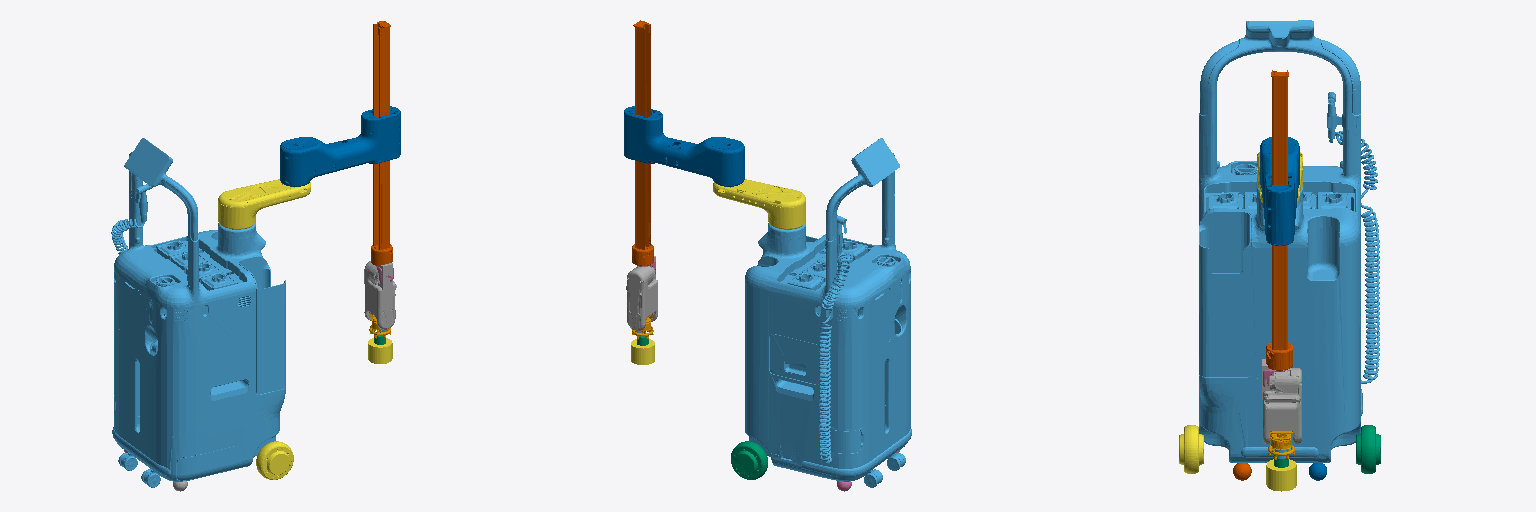
robot.urdf — t1:
<?xml version="1.0" ?>
<!-- =================================================================================== -->
<!-- |    This document was autogenerated by xacro from config/urdf/robot.urdf.xacro   | -->
<!-- |    EDITING THIS FILE BY HAND IS NOT RECOMMENDED                                 | -->
<!-- =================================================================================== -->
<robot name="t1">
  <!-- base_link: REP-103, +X forward, on the ground under the drive-axle midpoint.
       chassis_link: v6_wbc CAD, already +X forward. -->
  <!-- Kinematic origins and inertials copy v6_wbc.urdf; CAD names both the joint
       and the child link arm_jointN / arm_mount_joint / tool_joint. Links are
       renamed to arm_linkN / arm_base_link / tool_link. Limits from yaml.
       J4 CAD rpy yaw is 1.5807; use pi/2 (the 0.57 deg leftover is assembly dust). -->
  <!-- tool_link -> ft_sensor (measurement frame) -> brush_mount -> brush_tip.
       brush_tip +Z points out of the brush face. Masses and sizes from end_effector.yaml. -->
  <!-- Two RGBD frames. Optical: Z forward, X right, Y down (ROS camera).
       chassis pan is a UI/hardware joint only; keep it out of ros2_control / WBC. -->
  <!-- Interface contract shared by sim, hal and the controller. Change all three together.
       Arm joints use Damiao MIT mode: tau = kp*(q_des-q) + kd*(dq_des-dq) + tau_ff. -->
  <link name="base_link"/>
  <joint name="chassis_joint" type="fixed">
    <parent link="base_link"/>
    <child link="chassis_link"/>
    <origin rpy="0 0 0" xyz="-0.16 0 0.041800000000000004"/>
  </joint>
  <link name="chassis_link">
    <inertial>
      <origin rpy="0 0 0" xyz="0.0064536 0.005602 0.4715"/>
      <mass value="50.0"/>
      <inertia ixx="0.3906" ixy="-0.011384" ixz="0.0049803" iyy="0.38788" iyz="0.0046922" izz="0.21531"/>
    </inertial>
    <visual>
      <geometry>
        <mesh filename="package://wbc/meshes/raw/chassis_link.STL"/>
      </geometry>
    </visual>
    <collision>
      <origin rpy="0 0 0" xyz="0 0 0.25"/>
      <geometry>
        <box size="0.55 0.42 0.50"/>
      </geometry>
    </collision>
  </link>
  <!-- CAD joint axis is child +Z; rpy maps that to chassis -Y, so 0 0 -1 makes
         positive rotation drive +X (forward). -->
  <joint name="wheel_left_joint" type="continuous">
    <parent link="chassis_link"/>
    <child link="wheel_left_link"/>
    <origin rpy="1.5707963267948966 -1.5707963267948966 0" xyz="0.16 0.20275 0.0237"/>
    <axis xyz="0 0 -1"/>
  </joint>
  <link name="wheel_left_link">
    <inertial>
      <origin rpy="0 0 0" xyz="-2.5956E-08 1.4735E-07 -0.031758"/>
      <mass value="5"/>
      <inertia ixx="0.00047265" ixy="1.2993E-09" ixz="3.411E-11" iyy="0.00047265" iyz="6.0582E-12" izz="0.00085288"/>
    </inertial>
    <visual>
      <geometry>
        <mesh filename="package://wbc/meshes/raw/wheel_left_link.STL"/>
      </geometry>
    </visual>
    <collision>
      <geometry>
        <cylinder length="0.05" radius="0.0655"/>
      </geometry>
    </collision>
  </link>
  <joint name="wheel_right_joint" type="continuous">
    <parent link="chassis_link"/>
    <child link="wheel_right_link"/>
    <origin rpy="1.5707963267948966 -1.5707963267948966 0" xyz="0.16 -0.20275 0.0237"/>
    <axis xyz="0 0 -1"/>
  </joint>
  <link name="wheel_right_link">
    <inertial>
      <origin rpy="0 0 0" xyz="2.4542E-08 1.2337E-08 0.032242"/>
      <mass value="5"/>
      <inertia ixx="0.00047265" ixy="-2.8495E-09" ixz="-2.2362E-11" iyy="0.00047265" iyz="-2.6387E-11" izz="0.00085288"/>
    </inertial>
    <visual>
      <geometry>
        <mesh filename="package://wbc/meshes/raw/wheel_right_link.STL"/>
      </geometry>
    </visual>
    <collision>
      <geometry>
        <cylinder length="0.05" radius="0.0655"/>
      </geometry>
    </collision>
  </link>
  <joint name="caster_front_left_joint" type="fixed">
    <parent link="base_link"/>
    <child link="caster_front_left"/>
    <origin rpy="0 0 0" xyz="0.05 0.101 0.025"/>
  </joint>
  <link name="caster_front_left">
    <visual>
      <geometry>
        <sphere radius="0.025"/>
      </geometry>
    </visual>
    <collision>
      <geometry>
        <sphere radius="0.025"/>
      </geometry>
    </collision>
    <inertial>
      <mass value="0.16"/>
      <inertia ixx="4e-5" ixy="0" ixz="0" iyy="4e-5" iyz="0" izz="4e-5"/>
    </inertial>
  </link>
  <joint name="caster_front_right_joint" type="fixed">
    <parent link="base_link"/>
    <child link="caster_front_right"/>
    <origin rpy="0 0 0" xyz="0.05 -0.1 0.025"/>
  </joint>
  <link name="caster_front_right">
    <visual>
      <geometry>
        <sphere radius="0.025"/>
      </geometry>
    </visual>
    <collision>
      <geometry>
        <sphere radius="0.025"/>
      </geometry>
    </collision>
    <inertial>
      <mass value="0.16"/>
      <inertia ixx="4e-5" ixy="0" ixz="0" iyy="4e-5" iyz="0" izz="4e-5"/>
    </inertial>
  </link>
  <joint name="caster_rear_left_joint" type="fixed">
    <parent link="base_link"/>
    <child link="caster_rear_left"/>
    <origin rpy="0 0 0" xyz="-0.315 0.16 0.025"/>
  </joint>
  <link name="caster_rear_left">
    <visual>
      <geometry>
        <sphere radius="0.025"/>
      </geometry>
    </visual>
    <collision>
      <geometry>
        <sphere radius="0.025"/>
      </geometry>
    </collision>
    <inertial>
      <mass value="0.16"/>
      <inertia ixx="4e-5" ixy="0" ixz="0" iyy="4e-5" iyz="0" izz="4e-5"/>
    </inertial>
  </link>
  <joint name="caster_rear_right_joint" type="fixed">
    <parent link="base_link"/>
    <child link="caster_rear_right"/>
    <origin rpy="0 0 0" xyz="-0.315 -0.16 0.025"/>
  </joint>
  <link name="caster_rear_right">
    <visual>
      <geometry>
        <sphere radius="0.025"/>
      </geometry>
    </visual>
    <collision>
      <geometry>
        <sphere radius="0.025"/>
      </geometry>
    </collision>
    <inertial>
      <mass value="0.16"/>
      <inertia ixx="4e-5" ixy="0" ixz="0" iyy="4e-5" iyz="0" izz="4e-5"/>
    </inertial>
  </link>
  <joint name="imu_joint" type="fixed">
    <parent link="base_link"/>
    <child link="imu_link"/>
    <origin rpy="0 0 0" xyz="0.0 0.0 0.2"/>
  </joint>
  <link name="imu_link"/>
  <joint name="laser_joint" type="fixed">
    <parent link="base_link"/>
    <child link="laser_link"/>
    <origin rpy="0 0 0" xyz="0.1 0.0 0.25"/>
  </joint>
  <link name="laser_link"/>
  <joint name="arm_mount_joint" type="fixed">
    <parent link="chassis_link"/>
    <child link="arm_base_link"/>
    <origin rpy="0 0 0" xyz="0.153 0 0.88765"/>
  </joint>
  <link name="arm_base_link">
    <inertial>
      <origin rpy="0 0 0" xyz="0 0 0"/>
      <mass value="0.5"/>
      <inertia ixx="1e-6" ixy="0" ixz="0" iyy="1e-6" iyz="0" izz="1e-6"/>
    </inertial>
    <visual>
      <geometry>
        <mesh filename="package://wbc/meshes/raw/arm_mount_joint.STL"/>
      </geometry>
    </visual>
    <collision>
      <geometry>
        <mesh filename="package://wbc/meshes/raw/arm_mount_joint.STL"/>
      </geometry>
    </collision>
  </link>
  <joint name="arm_joint1" type="revolute">
    <parent link="arm_base_link"/>
    <child link="arm_link1"/>
    <origin rpy="0 0 0" xyz="0 0 0"/>
    <axis xyz="0 0 1"/>
    <limit effort="35.0" lower="-3.14" upper="3.14" velocity="3.0"/>
  </joint>
  <link name="arm_link1">
    <inertial>
      <origin rpy="0 0 0" xyz="0.060036 0.0013498 -0.03342"/>
      <mass value="1.5"/>
      <inertia ixx="0.00055903" ixy="-0.0001017" ixz="-0.00019926" iyy="0.0044725" iyz="-3.3406E-06" izz="0.0046668"/>
    </inertial>
    <visual>
      <geometry>
        <mesh filename="package://wbc/meshes/raw/arm_joint1.STL"/>
      </geometry>
    </visual>
    <collision>
      <geometry>
        <mesh filename="package://wbc/meshes/raw/arm_joint1.STL"/>
      </geometry>
    </collision>
  </link>
  <joint name="arm_joint2" type="revolute">
    <parent link="arm_link1"/>
    <child link="arm_link2"/>
    <origin rpy="0 0 0" xyz="0.22 0 0.13296"/>
    <axis xyz="0 0 -1"/>
    <limit effort="35.0" lower="-3.14" upper="3.14" velocity="3.0"/>
  </joint>
  <link name="arm_link2">
    <inertial>
      <origin rpy="0 0 0" xyz="0.13648 0.0063874 -0.067802"/>
      <mass value="1.5"/>
      <inertia ixx="0.0016395" ixy="-5.7716E-05" ixz="-0.00094019" iyy="0.015626" iyz="3.5816E-06" izz="0.014853"/>
    </inertial>
    <visual>
      <geometry>
        <mesh filename="package://wbc/meshes/raw/arm_joint2.STL"/>
      </geometry>
    </visual>
    <collision>
      <geometry>
        <mesh filename="package://wbc/meshes/raw/arm_joint2.STL"/>
      </geometry>
    </collision>
  </link>
  <joint name="arm_joint3" type="prismatic">
    <parent link="arm_link2"/>
    <child link="arm_link3"/>
    <origin rpy="0 0 0" xyz="0.32549 -0.00010767 -0.5001"/>
    <axis xyz="0 0 1"/>
    <limit effort="200.0" lower="-0.34" upper="0.38" velocity="0.2"/>
  </joint>
  <link name="arm_link3">
    <inertial>
      <origin rpy="0 0 0" xyz="0.0021928 0.0049691 0.3388"/>
      <mass value="1"/>
      <inertia ixx="0.021701" ixy="-1.3756E-05" ixz="3.5708E-08" iyy="0.021662" iyz="-3.1676E-08" izz="0.0002373"/>
    </inertial>
    <visual>
      <geometry>
        <mesh filename="package://wbc/meshes/raw/arm_joint3.STL"/>
      </geometry>
    </visual>
    <collision>
      <geometry>
        <mesh filename="package://wbc/meshes/raw/arm_joint3.STL"/>
      </geometry>
    </collision>
  </link>
  <joint name="arm_joint4" type="revolute">
    <parent link="arm_link3"/>
    <child link="arm_link4"/>
    <origin rpy="0 0 1.5707963267948966" xyz="0 0 0"/>
    <axis xyz="0 0 1"/>
    <limit effort="12.0" lower="-3.14" upper="3.14" velocity="3.0"/>
  </joint>
  <link name="arm_link4">
    <inertial>
      <origin rpy="0 0 0" xyz="-0.02654 0.0071633 -0.022123"/>
      <mass value="0.5"/>
      <inertia ixx="1.4366E-05" ixy="-1.2671E-07" ixz="-3.6545E-06" iyy="1.2739E-05" iyz="2.8268E-07" izz="1.0192E-05"/>
    </inertial>
    <visual>
      <geometry>
        <mesh filename="package://wbc/meshes/raw/arm_joint4.STL"/>
      </geometry>
    </visual>
    <collision>
      <geometry>
        <mesh filename="package://wbc/meshes/raw/arm_joint4.STL"/>
      </geometry>
    </collision>
  </link>
  <joint name="arm_joint5" type="revolute">
    <parent link="arm_link4"/>
    <child link="arm_link5"/>
    <origin rpy="-1.5707963267948966 0 -1.5707963267948966" xyz="-0.031613 0.002352 -0.04255"/>
    <axis xyz="0 0 1"/>
    <limit effort="12.0" lower="-3.33" upper="0.33" velocity="3.0"/>
  </joint>
  <link name="arm_link5">
    <inertial>
      <origin rpy="0 0 0" xyz="-0.0020117 0.054321 0.043414"/>
      <mass value="1"/>
      <inertia ixx="0.00065389" ixy="-5.5292E-05" ixz="3.9225E-06" iyy="0.0002255" iyz="3.4951E-05" izz="0.00060496"/>
    </inertial>
    <visual>
      <geometry>
        <mesh filename="package://wbc/meshes/raw/arm_joint5.STL"/>
      </geometry>
    </visual>
    <collision>
      <geometry>
        <mesh filename="package://wbc/meshes/raw/arm_joint5.STL"/>
      </geometry>
    </collision>
  </link>
  <joint name="arm_joint6" type="revolute">
    <parent link="arm_link5"/>
    <child link="arm_link6"/>
    <origin rpy="0 0 0" xyz="-3.816E-05 0.16018 -0.0020483"/>
    <axis xyz="0 0 1"/>
    <limit effort="12.0" lower="-1.58" upper="1.58" velocity="3.0"/>
  </joint>
  <link name="arm_link6">
    <inertial>
      <origin rpy="0 0 0" xyz="0.0142 0.021215 0.037235"/>
      <mass value="1.5"/>
      <inertia ixx="3.7651E-05" ixy="-2.0522E-07" ixz="5.0276E-07" iyy="5.7051E-05" iyz="-4.6836E-07" izz="2.7137E-05"/>
    </inertial>
    <visual>
      <geometry>
        <mesh filename="package://wbc/meshes/raw/arm_joint6.STL"/>
      </geometry>
    </visual>
    <collision>
      <geometry>
        <mesh filename="package://wbc/meshes/raw/arm_joint6.STL"/>
      </geometry>
    </collision>
  </link>
  <joint name="tool_joint" type="fixed">
    <parent link="arm_link6"/>
    <child link="tool_link"/>
    <origin rpy="-1.5707963267948966 0 0" xyz="0 0.058533 0.037919"/>
  </joint>
  <link name="tool_link">
    <inertial>
      <origin rpy="0 0 0" xyz="0.014441 0.0010081 -0.013685"/>
      <mass value="0.01"/>
      <inertia ixx="2.8165E-06" ixy="0" ixz="0" iyy="2.8165E-06" iyz="0" izz="3.2797E-06"/>
    </inertial>
    <visual>
      <geometry>
        <mesh filename="package://wbc/meshes/raw/tool_joint.STL"/>
      </geometry>
    </visual>
    <collision>
      <geometry>
        <mesh filename="package://wbc/meshes/raw/tool_joint.STL"/>
      </geometry>
    </collision>
  </link>
  <joint name="ft_sensor_joint" type="fixed">
    <parent link="tool_link"/>
    <child link="ft_sensor"/>
    <origin rpy="0.0 0.0 0.0" xyz="0.0 0.0 0.0"/>
  </joint>
  <link name="ft_sensor">
    <inertial>
      <origin rpy="0 0 0" xyz="0 0 0.015"/>
      <mass value="0.15"/>
      <inertia ixx="2.6249999999999998e-05" ixy="0" ixz="0" iyy="2.6249999999999998e-05" iyz="0" izz="3e-05"/>
    </inertial>
    <visual>
      <origin rpy="0 0 0" xyz="0 0 0.015"/>
      <geometry>
        <cylinder length="0.03" radius="0.02"/>
      </geometry>
    </visual>
    <collision>
      <origin rpy="0 0 0" xyz="0 0 0.015"/>
      <geometry>
        <cylinder length="0.03" radius="0.02"/>
      </geometry>
    </collision>
  </link>
  <joint name="brush_mount_joint" type="fixed">
    <parent link="ft_sensor"/>
    <child link="brush_mount"/>
    <origin rpy="0 0 0" xyz="0 0 0.03"/>
  </joint>
  <link name="brush_mount">
    <inertial>
      <origin rpy="0 0 0" xyz="0 0 0.03"/>
      <mass value="0.12"/>
      <inertia ixx="8.4e-05" ixy="0" ixz="0" iyy="8.4e-05" iyz="0" izz="9.599999999999999e-05"/>
    </inertial>
    <visual>
      <origin rpy="0 0 0" xyz="0 0 0.03"/>
      <geometry>
        <cylinder length="0.06" radius="0.04"/>
      </geometry>
    </visual>
    <collision>
      <origin rpy="0 0 0" xyz="0 0 0.03"/>
      <geometry>
        <cylinder length="0.06" radius="0.04"/>
      </geometry>
    </collision>
  </link>
  <joint name="brush_tip_joint" type="fixed">
    <parent link="brush_mount"/>
    <child link="brush_tip"/>
    <origin rpy="0 0 0" xyz="0 0 0.06"/>
  </joint>
  <link name="brush_tip"/>
  <joint name="chassis_rgbd_joint" type="revolute">
    <parent link="chassis_link"/>
    <child link="chassis_rgbd_link"/>
    <origin rpy="0.0 0.0 0.0" xyz="0.12 0.0 0.45"/>
    <axis xyz="0.0 1.0 0.0"/>
    <limit effort="1.0" lower="-0.7854" upper="1.5707" velocity="2.0"/>
  </joint>
  <link name="chassis_rgbd_link">
    <inertial>
      <mass value="0.05"/>
      <inertia ixx="2e-5" ixy="0" ixz="0" iyy="2e-5" iyz="0" izz="2e-5"/>
    </inertial>
    <visual>
      <geometry>
        <box size="0.04 0.10 0.03"/>
      </geometry>
    </visual>
    <collision>
      <geometry>
        <box size="0.04 0.10 0.03"/>
      </geometry>
    </collision>
  </link>
  <joint name="chassis_rgbd_optical_joint" type="fixed">
    <parent link="chassis_rgbd_link"/>
    <child link="chassis_rgbd_optical"/>
    <origin rpy="-1.5707963267948966 0 -1.5707963267948966" xyz="0 0 0"/>
  </joint>
  <link name="chassis_rgbd_optical"/>
  <joint name="arm_rgbd_joint" type="fixed">
    <parent link="arm_link5"/>
    <child link="arm_rgbd_link"/>
    <origin rpy="0.0 0.0 0.0" xyz="0.0 0.0 0.0"/>
  </joint>
  <link name="arm_rgbd_link">
    <inertial>
      <mass value="0.05"/>
      <inertia ixx="2e-5" ixy="0" ixz="0" iyy="2e-5" iyz="0" izz="2e-5"/>
    </inertial>
    <visual>
      <geometry>
        <box size="0.04 0.10 0.03"/>
      </geometry>
    </visual>
    <collision>
      <geometry>
        <box size="0.04 0.10 0.03"/>
      </geometry>
    </collision>
  </link>
  <joint name="arm_rgbd_optical_joint" type="fixed">
    <parent link="arm_rgbd_link"/>
    <child link="arm_rgbd_optical"/>
    <origin rpy="-1.5707963267948966 0 -1.5707963267948966" xyz="0 0 0"/>
  </joint>
  <link name="arm_rgbd_optical"/>
</robot>

--- Render facts (derived) ---
Views: 3 orthographic renders of the robot side by side, from view 1: azimuth 30°, elevation 25°; view 2: azimuth 150°, elevation 25°; view 3: azimuth 270°, elevation 25°.
Robot: t1 — 25 links, 24 joints (6 revolute, 2 continuous, 1 prismatic, 15 fixed); root link base_link; default pose: all joints at 0.
Links seen in each view (by area): view 1: chassis_link, arm_link2, arm_link3, arm_link1, arm_link5, wheel_right_link, brush_mount; view 2: chassis_link, arm_link2, arm_link3, arm_link1, arm_link5, wheel_left_link; view 3: chassis_link, arm_link3, arm_link2, arm_link5, wheel_right_link, wheel_left_link, brush_mount, arm_link6.
Boxes of the visible links, bbox=[...] form: chassis_link: bbox=[111, 138, 285, 487]; arm_link2: bbox=[280, 106, 400, 186]; arm_link3: bbox=[371, 21, 392, 265]; arm_link1: bbox=[218, 179, 310, 229]; arm_link5: bbox=[364, 261, 396, 329]; wheel_right_link: bbox=[256, 441, 293, 479]; brush_mount: bbox=[368, 338, 392, 363]; chassis_link: bbox=[745, 138, 911, 487]; arm_link2: bbox=[624, 106, 744, 186]; arm_link3: bbox=[632, 20, 653, 265]; arm_link1: bbox=[713, 179, 805, 229]; arm_link5: bbox=[626, 266, 657, 330]; wheel_left_link: bbox=[731, 441, 767, 479]; chassis_link: bbox=[1199, 20, 1379, 462]; arm_link3: bbox=[1266, 70, 1292, 370]; arm_link2: bbox=[1260, 137, 1299, 245]; arm_link5: bbox=[1263, 368, 1301, 443]; wheel_right_link: bbox=[1179, 425, 1203, 473]; wheel_left_link: bbox=[1356, 425, 1380, 473]; brush_mount: bbox=[1266, 459, 1296, 491]; arm_link6: bbox=[1268, 431, 1294, 459].
Size in the robot's own frame: 1.01 by 0.5335 by 1.42 metres.
11 mesh visuals loaded from 11 distinct referenced files (11 binary STL).
